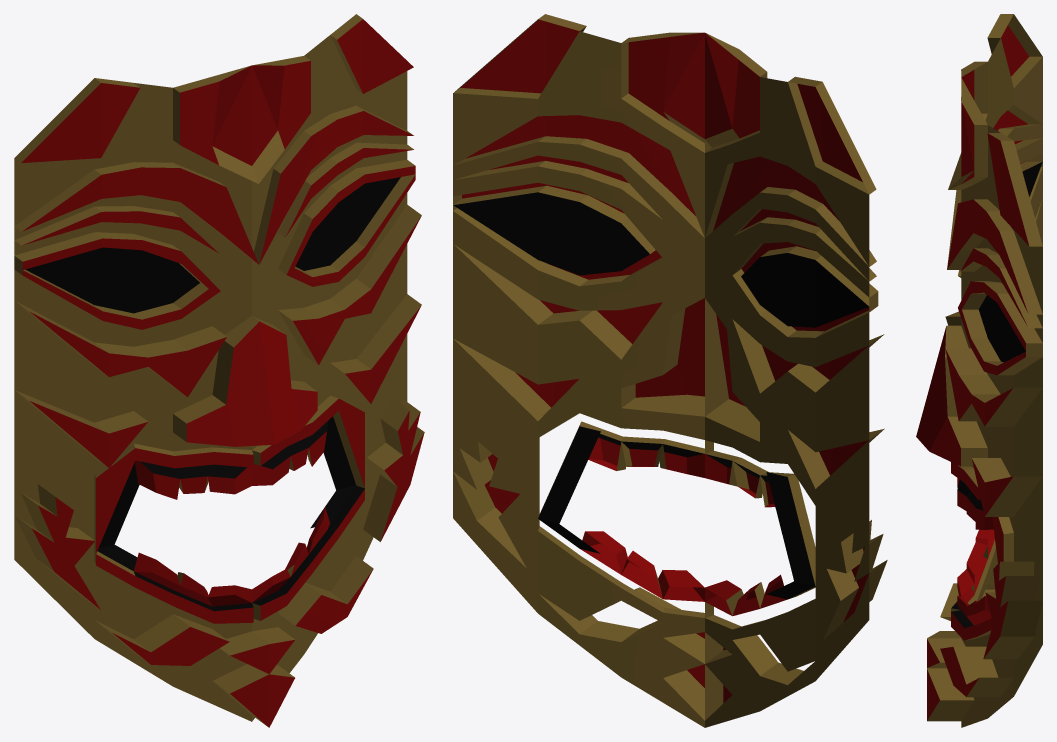
File: maskAtt.fbx
3 views of the same model, side by side, from view 1: azimuth 30°, elevation 25°; view 2: azimuth 150°, elevation 25°; view 3: azimuth 270°, elevation 25° (orthographic). The views are drawn at different scales.
Parts seen in each view (by area): view 1: Cube; view 2: Cube; view 3: Cube.
Part boxes in pixels (left/top/right/bottom): Cube: left=14, top=14, right=424, bottom=727; Cube: left=453, top=14, right=887, bottom=727; Cube: left=916, top=14, right=1042, bottom=727.
Size of the model in its own units: 50.7 by 80.94 by 14.3.
